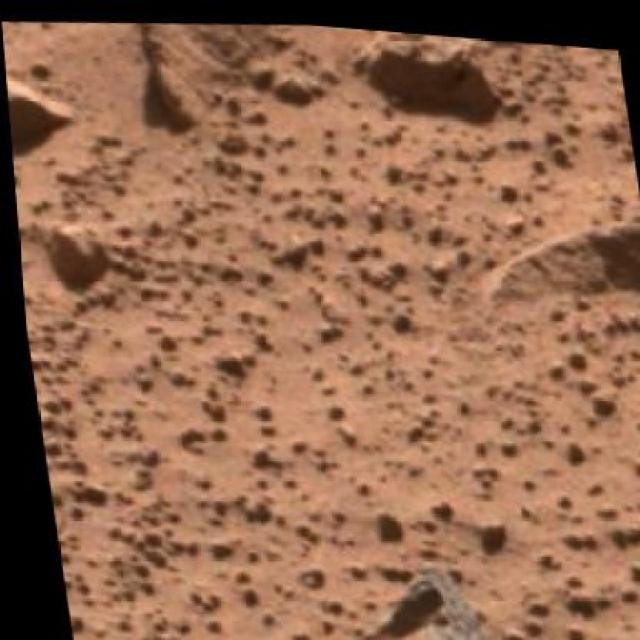rock: (48, 504, 623, 638), (121, 10, 296, 147), (368, 24, 502, 114), (2, 22, 82, 143)
